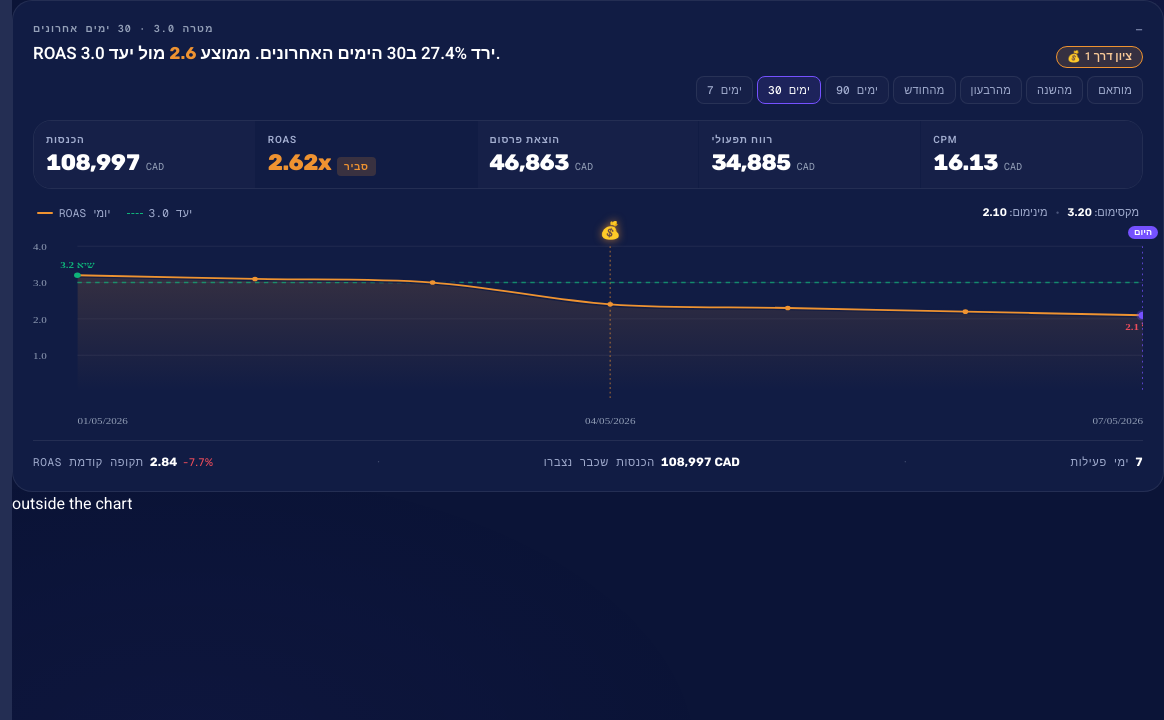
it: <RoasTargetChart> › clicking outside the chart wrap dismisses the open pin tooltip
Click the button with test id "chart-pin-refund-05-04" at (610, 230), box [600,222,621,238]
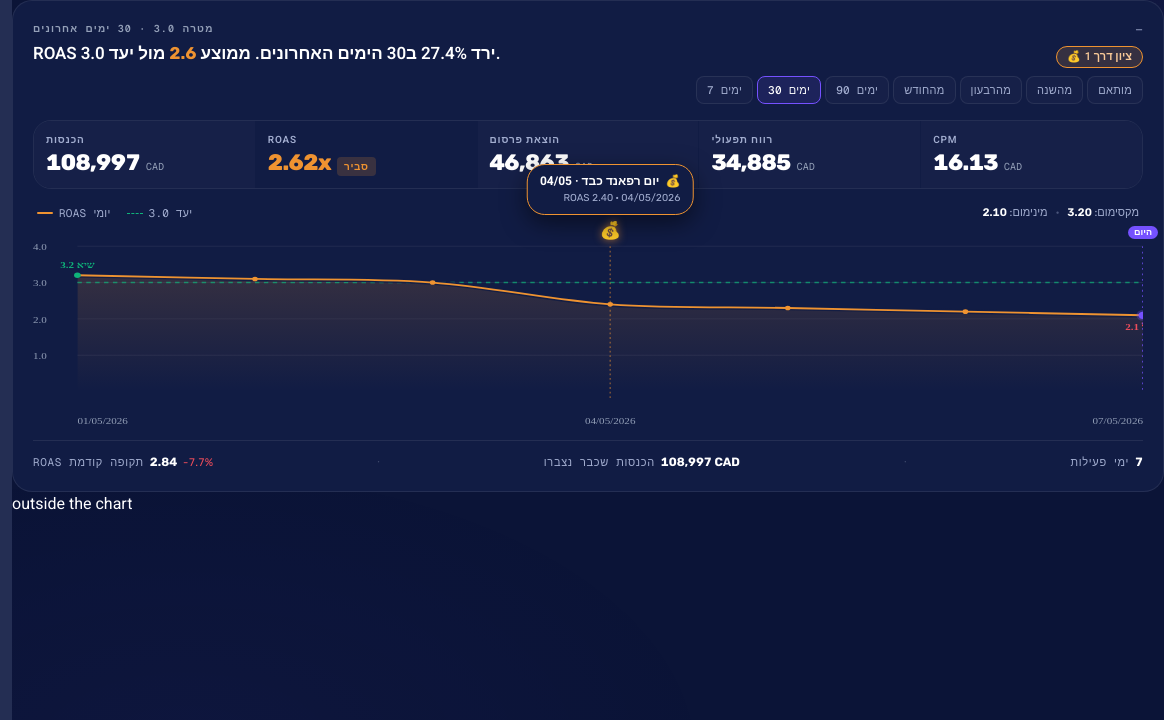
Now the tooltip with test id "chart-pin-tooltip-refund-05-04" is shown, box [527,164,693,215]
Press the mouse on the text with test id "outside" at (72, 504), box [12,492,132,516]
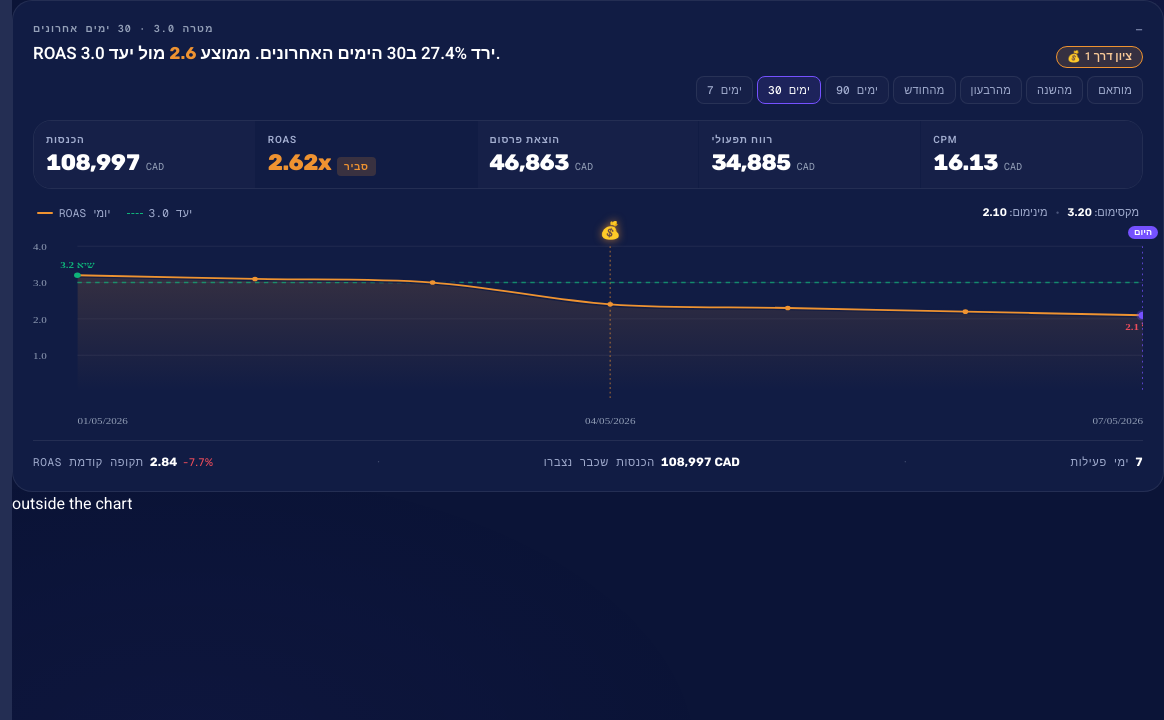
Now the tooltip with test id "chart-pin-tooltip-refund-05-04" is gone
